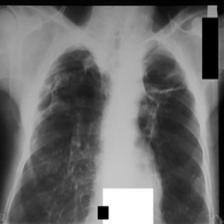tuberculosis: (3, 28, 212, 224)
